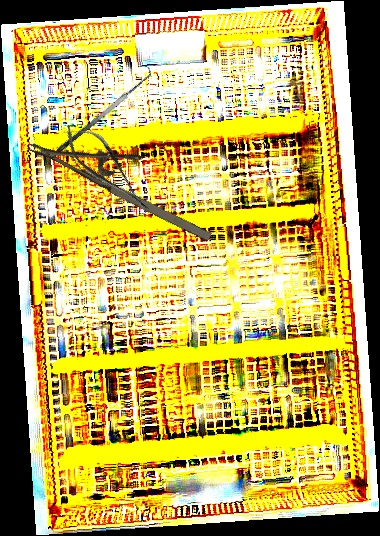Micro Scissor: (55, 113, 159, 224)
Needle Holder: (26, 105, 229, 248)
Spatula Surgical: (49, 64, 158, 155)
